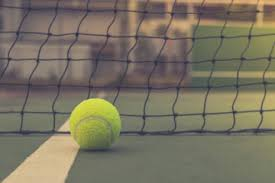tennis_ball: (69, 97, 121, 153)
